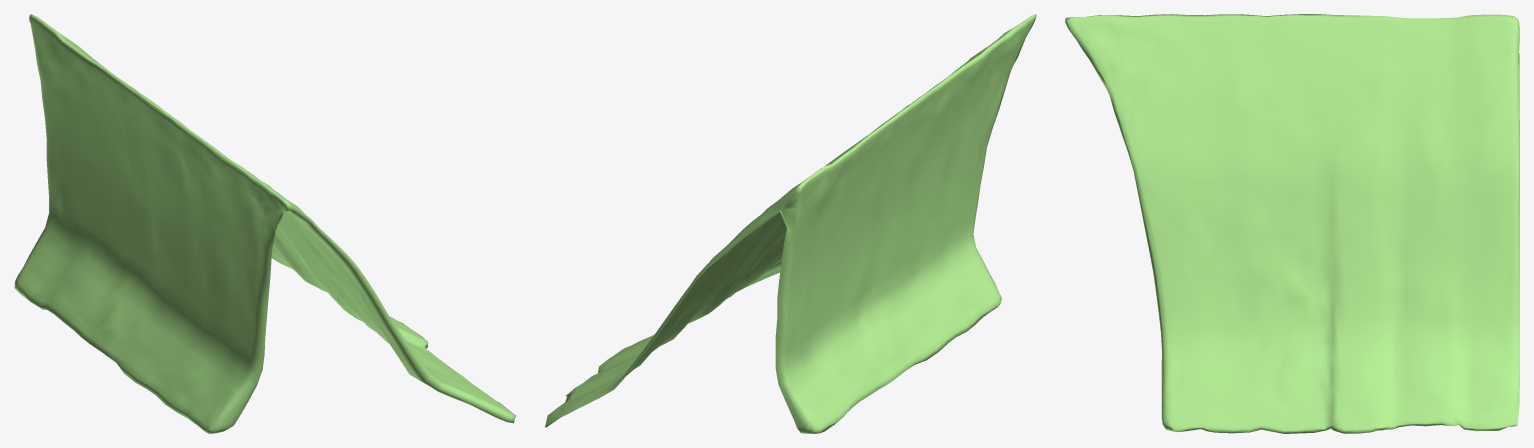
The model's file is ChicleTejado.fbx.
The picture shows the model from 3 angles, left to right: view 1: azimuth 30°, elevation 25°; view 2: azimuth 150°, elevation 25°; view 3: azimuth 270°, elevation 25°; orthographic projection. The views are drawn at different scales.
Parts seen in each view (by area): view 1: Chiclelow; view 2: Chiclelow; view 3: Chiclelow.
Part boxes in pixels (<box>): Chiclelow: <box>14,14,515,433</box>; Chiclelow: <box>545,14,1036,433</box>; Chiclelow: <box>1065,14,1519,433</box>.
Size of the model in its own units: 979 by 971 by 1361.
